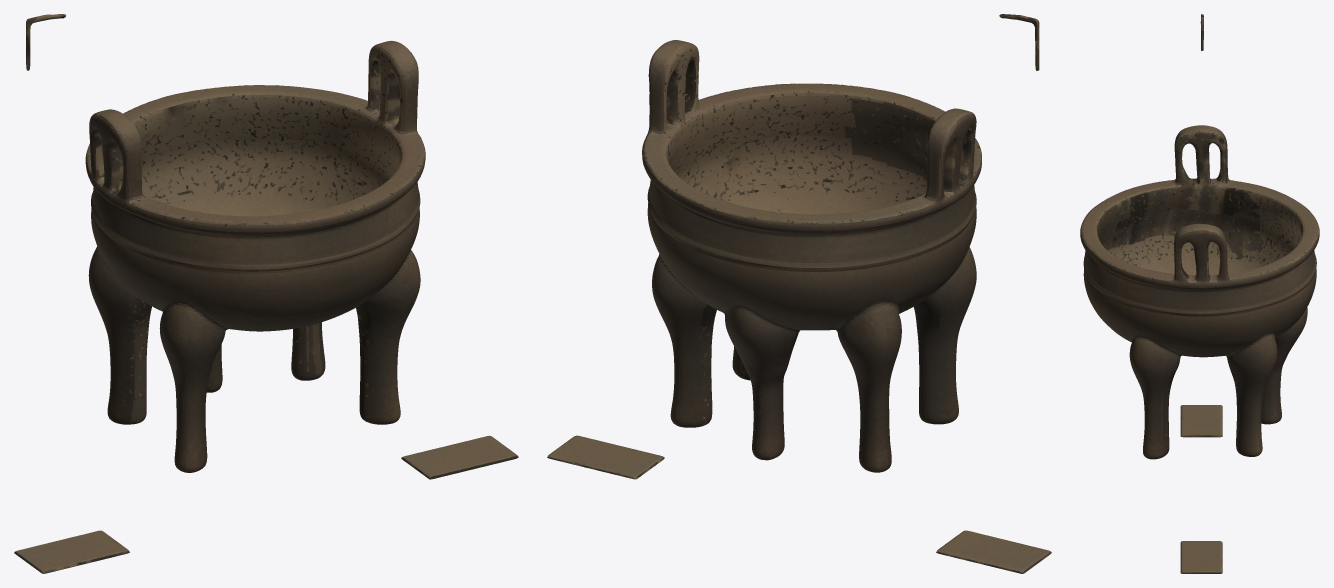
The model's file is tmp_9snq45y.glb.
3 views of the same model, side by side, from view 1: azimuth 30°, elevation 25°; view 2: azimuth 150°, elevation 25°; view 3: azimuth 270°, elevation 25° (orthographic). The views are drawn at different scales.
Parts seen in each view (by area): view 1: geometry_0; view 2: geometry_0; view 3: geometry_0.
Part boxes in pixels (x1,y1,x2,y2): geometry_0: [14, 14, 518, 573]; geometry_0: [547, 14, 1051, 573]; geometry_0: [1080, 14, 1319, 573].
Bounding box in the file's own units: 1.83 × 1.99 × 1.1.
Materials: 1 (1 with a texture image).
